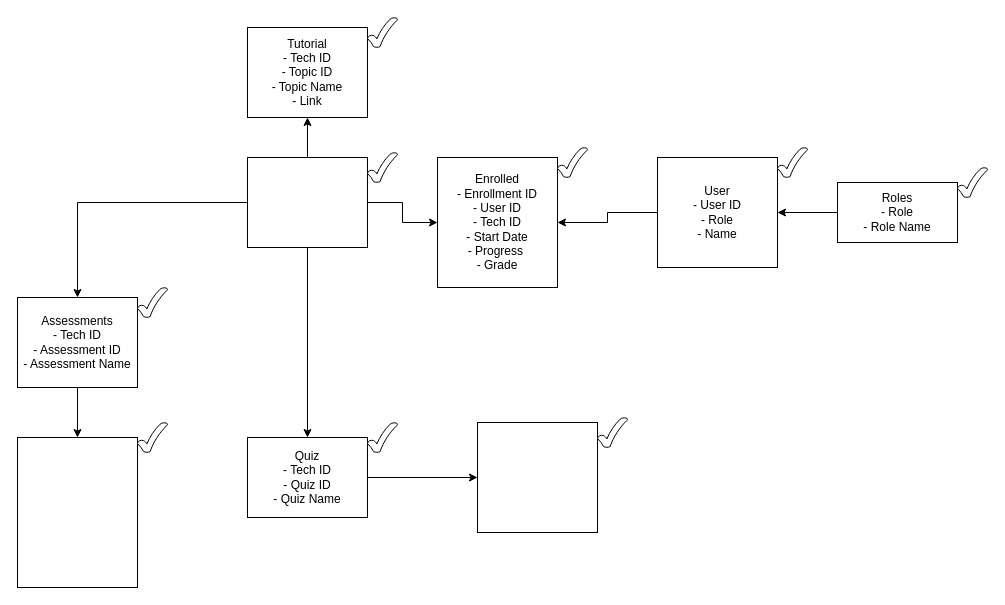
Some shapes in this 1005 by 605 pixel diagram are drawn without their labels. The centre of each missing label's shape, as x and y in pixels:
"Assessment Questions - Assessment ID - Question ID - Question - Solution" belongs at pixel 77 512.
"Quiz Questions - Quiz ID - Question ID - Question - Options [] - Correct Option" belongs at pixel 537 477.
"Technology - Tech ID - Tech Name" belongs at pixel 307 202.
